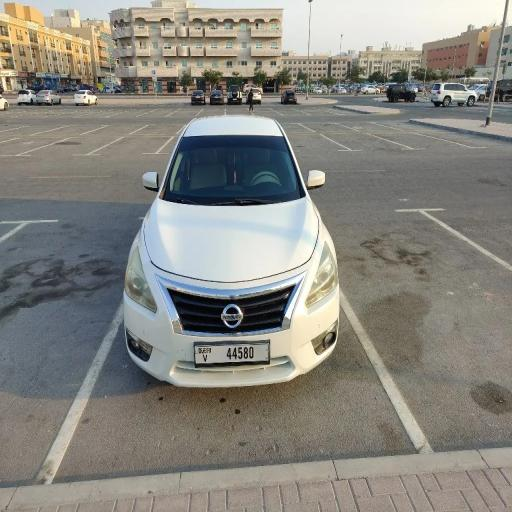license-plates: (195, 343, 269, 364)
